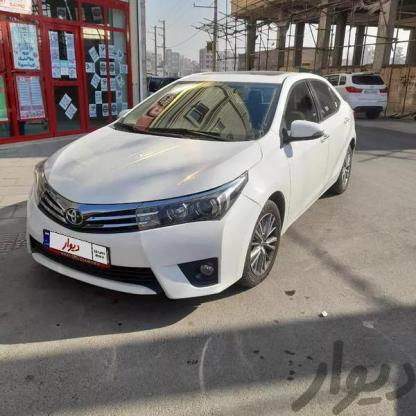Car: (20, 54, 362, 313), (319, 60, 399, 128)
